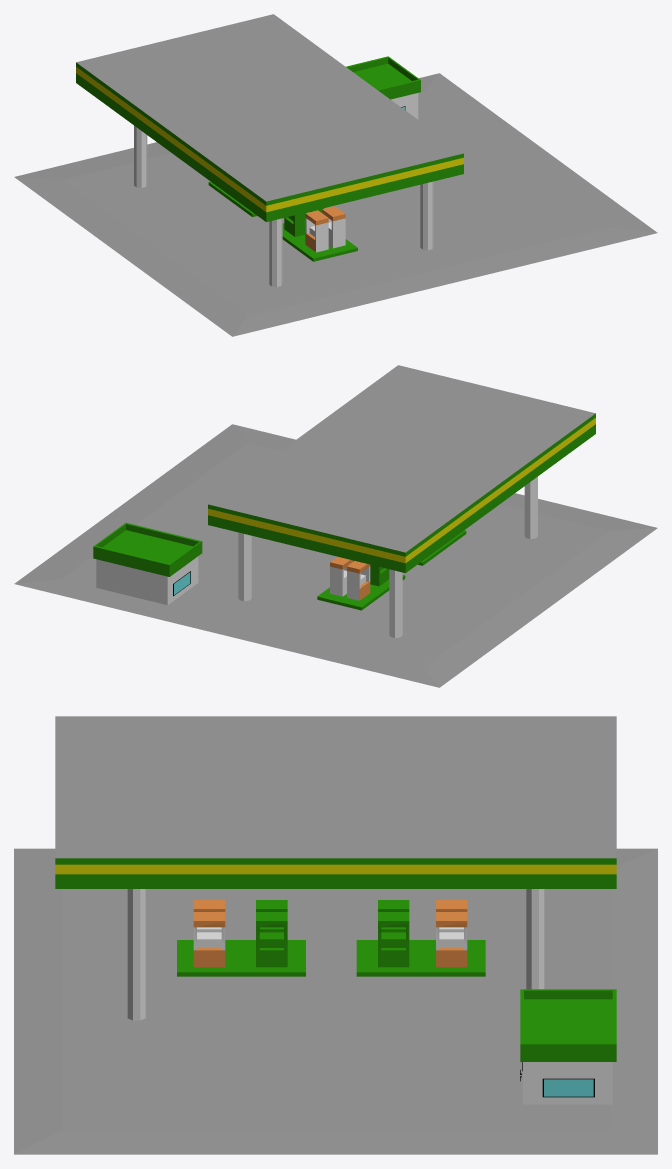
File: Posto.fbx
The picture shows the model from 3 angles, top to bottom: view 1: azimuth 30°, elevation 25°; view 2: azimuth 150°, elevation 25°; view 3: azimuth 270°, elevation 25°; orthographic projection. The views are drawn at different scales.
Visible parts, largest first — view 1: Plane.003, Cube.003, Cylinder, Plane.006, Cube.010, Cube.004, Cube.009; view 2: Plane.003, Cube.003, Plane.006, Cylinder, Cube.007, Cube.002, Cube.008; view 3: Plane.003, Cube.003, Plane.006, Cylinder, Cube.002, Cube.004, Cube.009, Cube.006, Cube.008, Cube.000.
Boxes of the visible parts, x1,y1,x2,y2 form: Plane.003: (14, 73, 657, 336); Cube.003: (76, 14, 463, 221); Cylinder: (134, 125, 433, 286); Plane.006: (346, 56, 420, 119); Cube.010: (305, 210, 328, 252); Cube.004: (282, 223, 357, 261); Cube.009: (322, 206, 345, 248); Plane.003: (14, 424, 657, 687); Cube.003: (208, 365, 595, 572); Plane.006: (93, 522, 202, 605); Cylinder: (238, 476, 537, 637); Cube.007: (347, 561, 370, 600); Cube.002: (317, 575, 405, 610); Cube.008: (330, 557, 353, 596); Plane.003: (14, 848, 657, 1154); Cube.003: (55, 716, 616, 888); Plane.006: (520, 989, 616, 1104); Cylinder: (127, 889, 544, 1020); Cube.002: (356, 940, 485, 976); Cube.004: (177, 940, 305, 976); Cube.009: (193, 912, 225, 967); Cube.006: (256, 912, 287, 967); Cube.008: (436, 912, 467, 967); Cube.000: (378, 912, 409, 967).
Size of the model in its own units: 562 by 143 by 500.
